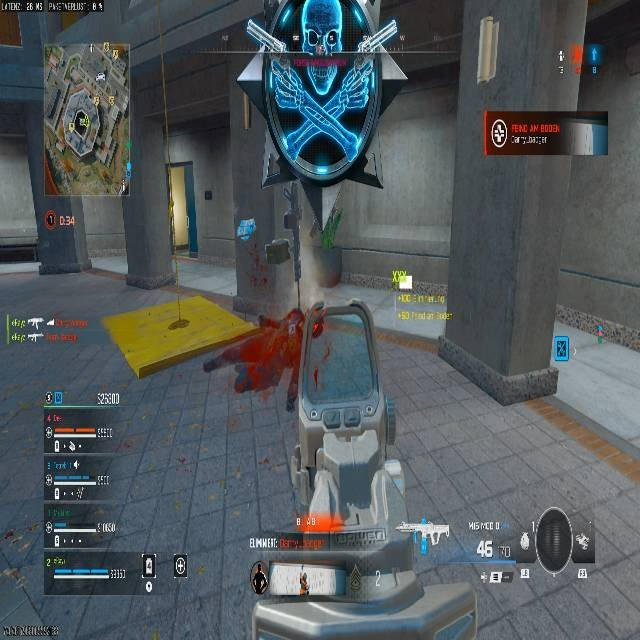player: (251, 560, 269, 597), (299, 571, 309, 595)
